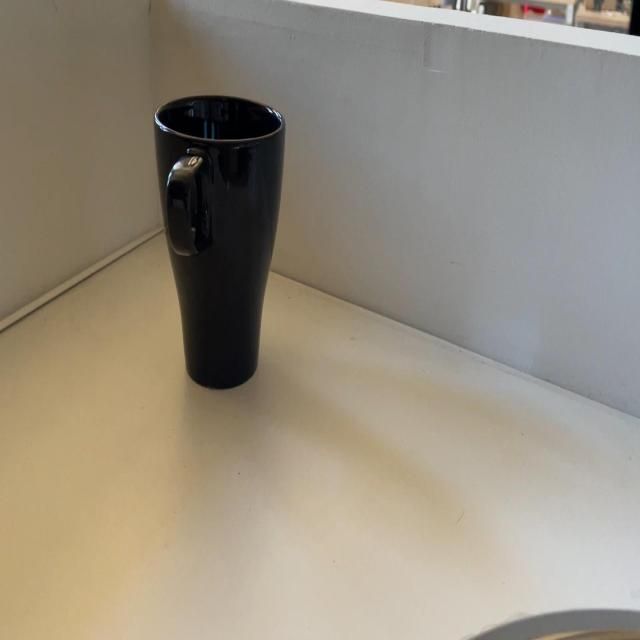cup: (150, 96, 288, 388)
